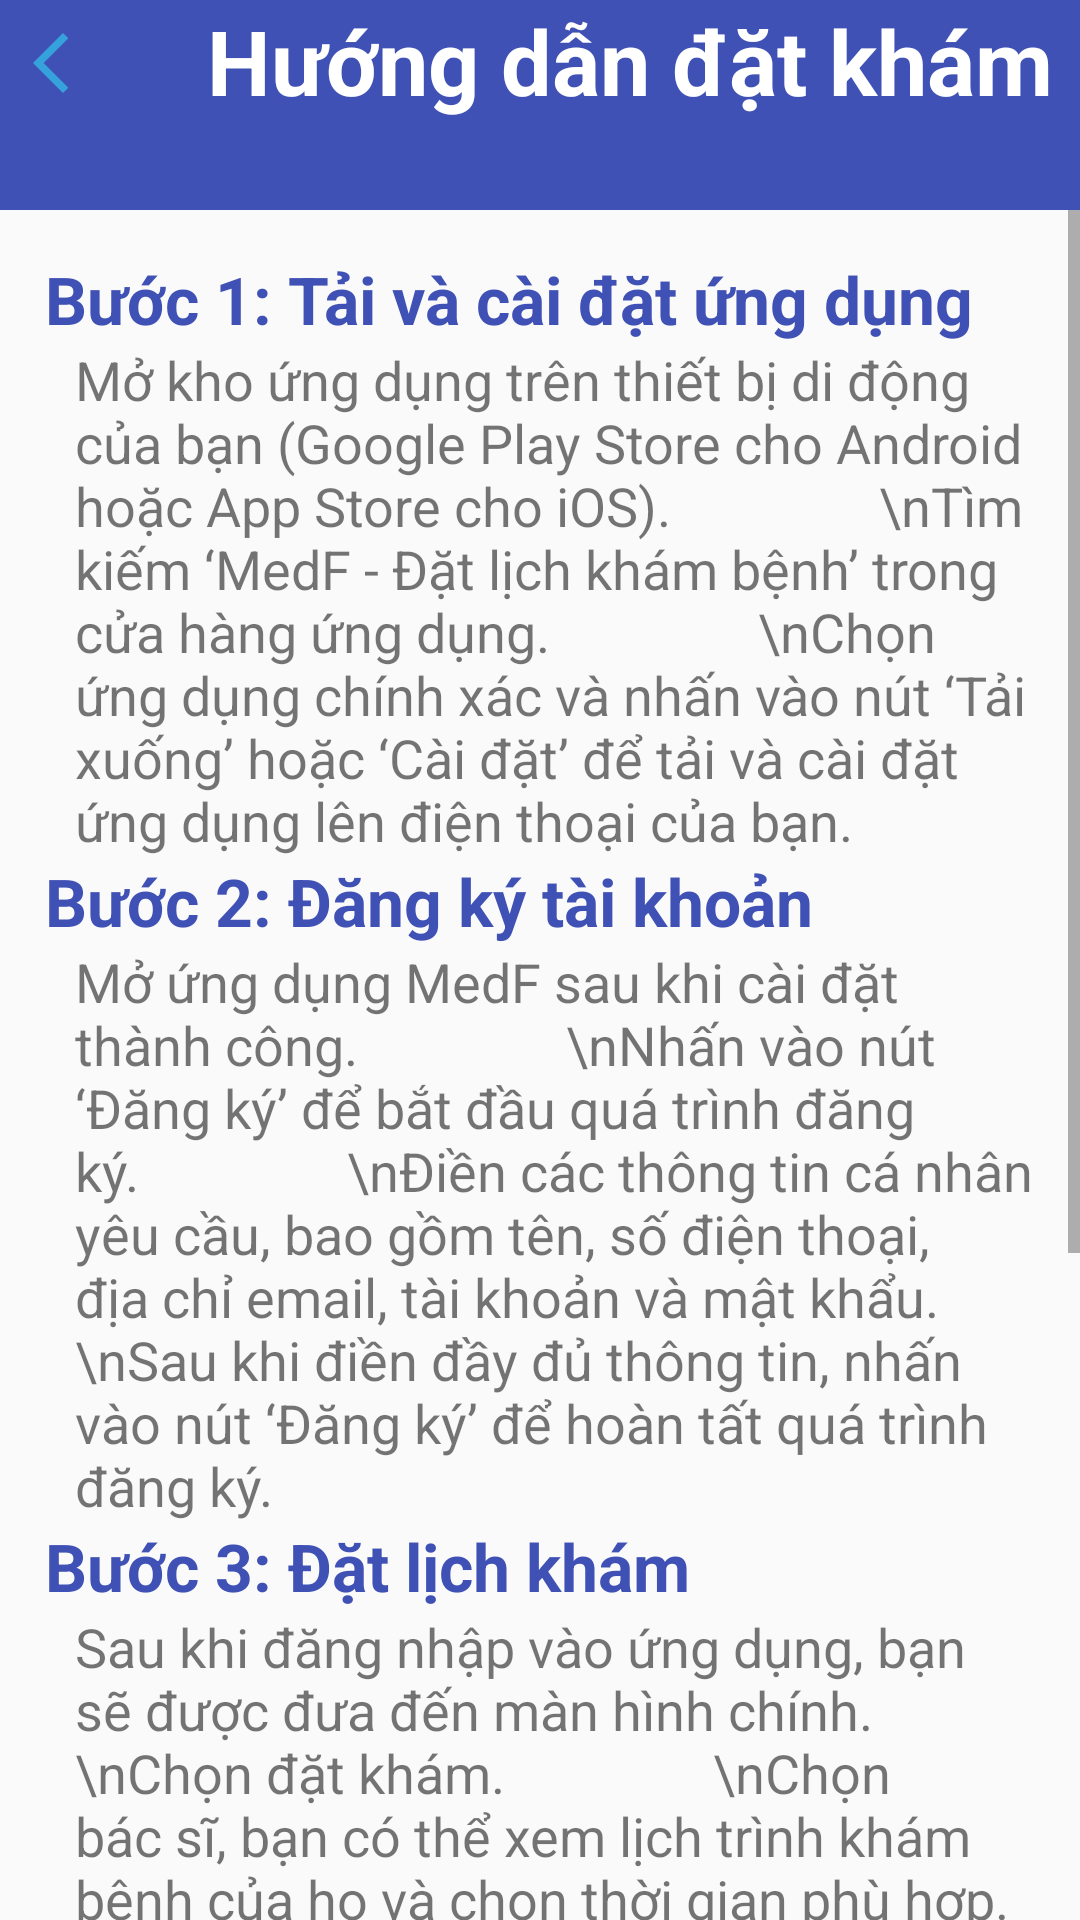

Icon bounding boxes for this 1080×1920 phone screenshot, format (x1,y1,x2,y2):
arrow back: (33,33,68,93)
